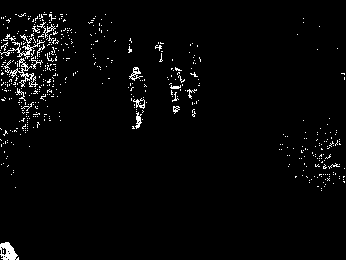person: (123, 65, 151, 131), (186, 68, 208, 120), (164, 64, 185, 118)
